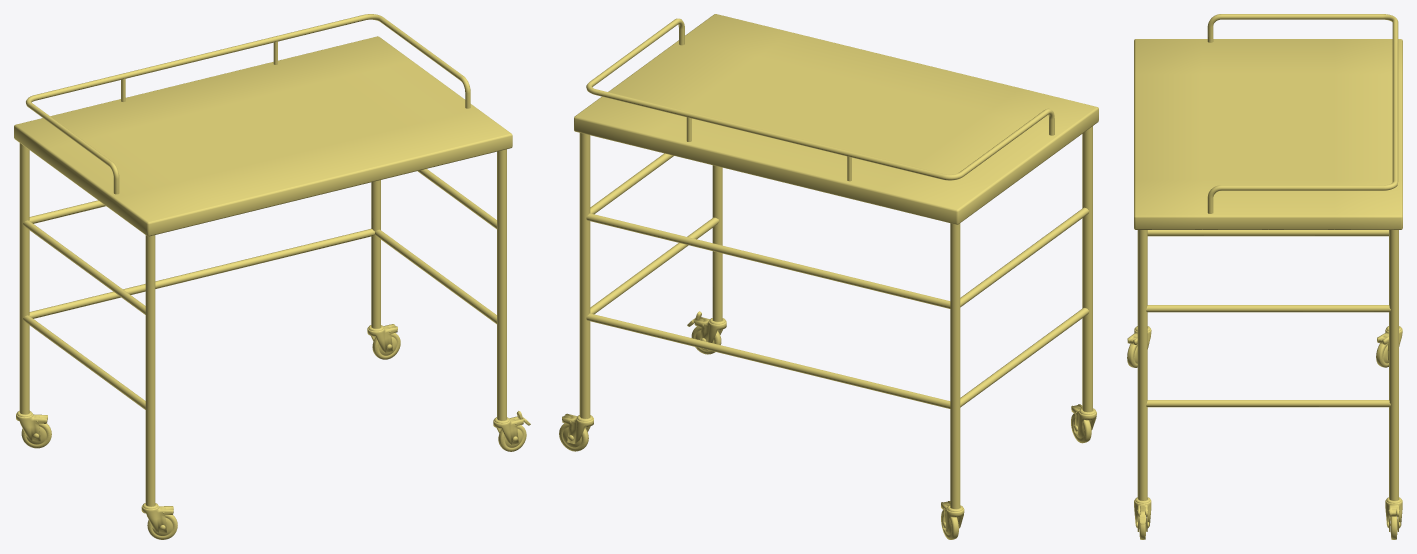
The model's file is Trolly.fbx.
The picture shows the model from 3 angles, left to right: view 1: azimuth 30°, elevation 25°; view 2: azimuth 150°, elevation 25°; view 3: azimuth 270°, elevation 25°; orthographic projection. The views are drawn at different scales.
Visible parts, largest first — view 1: main toly; view 2: main toly; view 3: main toly.
Part boxes in pixels (x1,y1,x2,y2): main toly: (14,14,530,539); main toly: (559,14,1098,539); main toly: (1127,14,1402,539).
Size of the model in its own units: 592 by 510 by 366.
